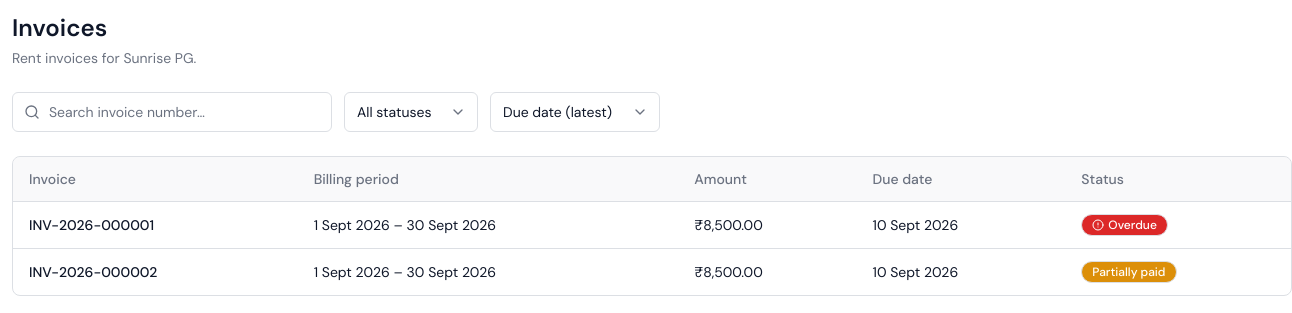
Scenario: InvoicesListPage › filters the list by status client-side
Check: the text "INV-2026-000001" is shown, box [29,216,154,234]
Select "Partially paid" in the dropdown named "filter by status": x=411, y=112 [344,92,478,132]
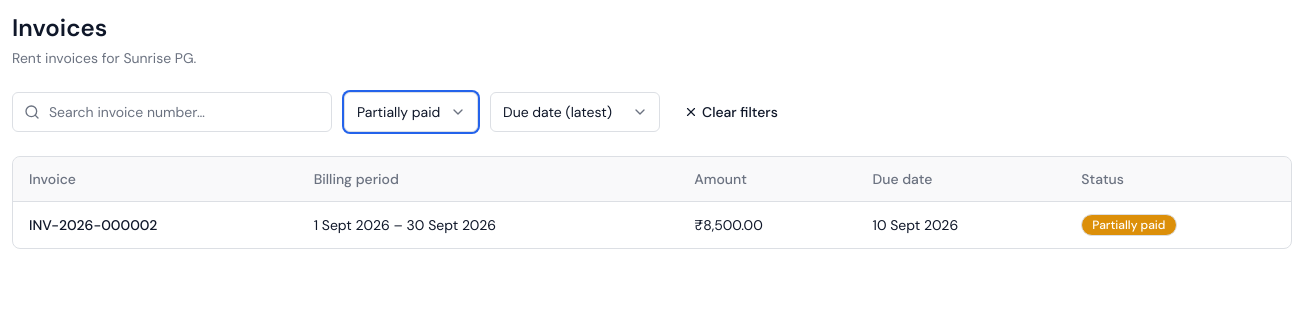
Check: the text "INV-2026-000002" is shown, box [29,216,157,234]
Check: the text "INV-2026-000001" is gone
